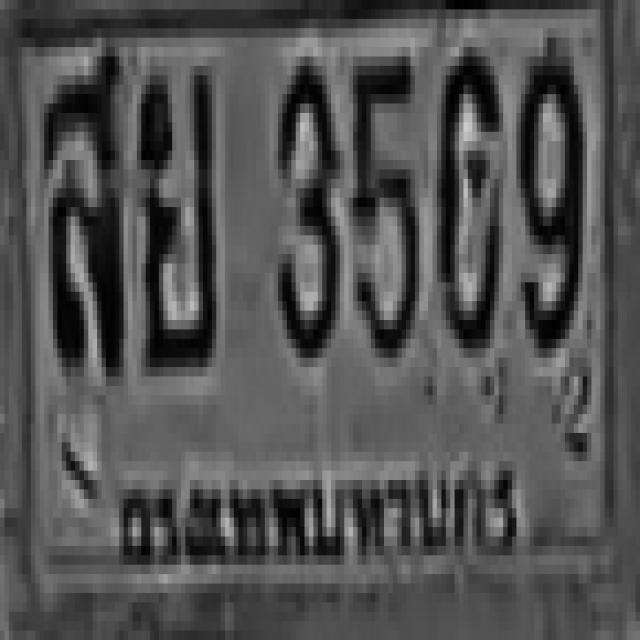3: (274, 56, 336, 348)
43YorYak: (137, 61, 212, 362)
49SorSuea: (40, 42, 119, 362)
5: (349, 47, 415, 348)
6: (432, 38, 494, 338)
9: (516, 33, 578, 343)
Bangkok: (103, 437, 527, 583)
